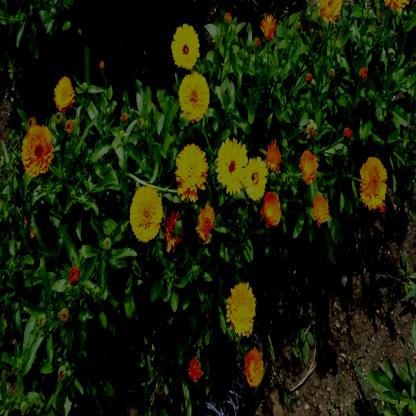marigold: (175, 143, 207, 201), (216, 138, 246, 193), (130, 188, 161, 241), (226, 286, 256, 336), (23, 125, 52, 176), (360, 157, 387, 209), (179, 73, 209, 119), (171, 22, 199, 70), (243, 158, 268, 199), (244, 339, 264, 388), (300, 146, 320, 184), (54, 75, 74, 110), (262, 192, 282, 227), (314, 193, 330, 225)
